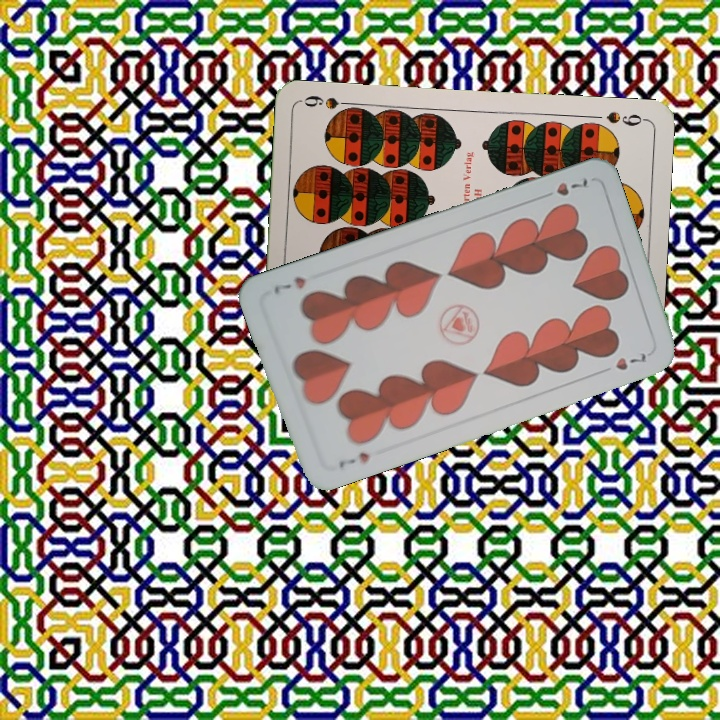H7: (536, 173, 592, 202), (335, 448, 372, 471)
S9: (602, 107, 648, 129)
